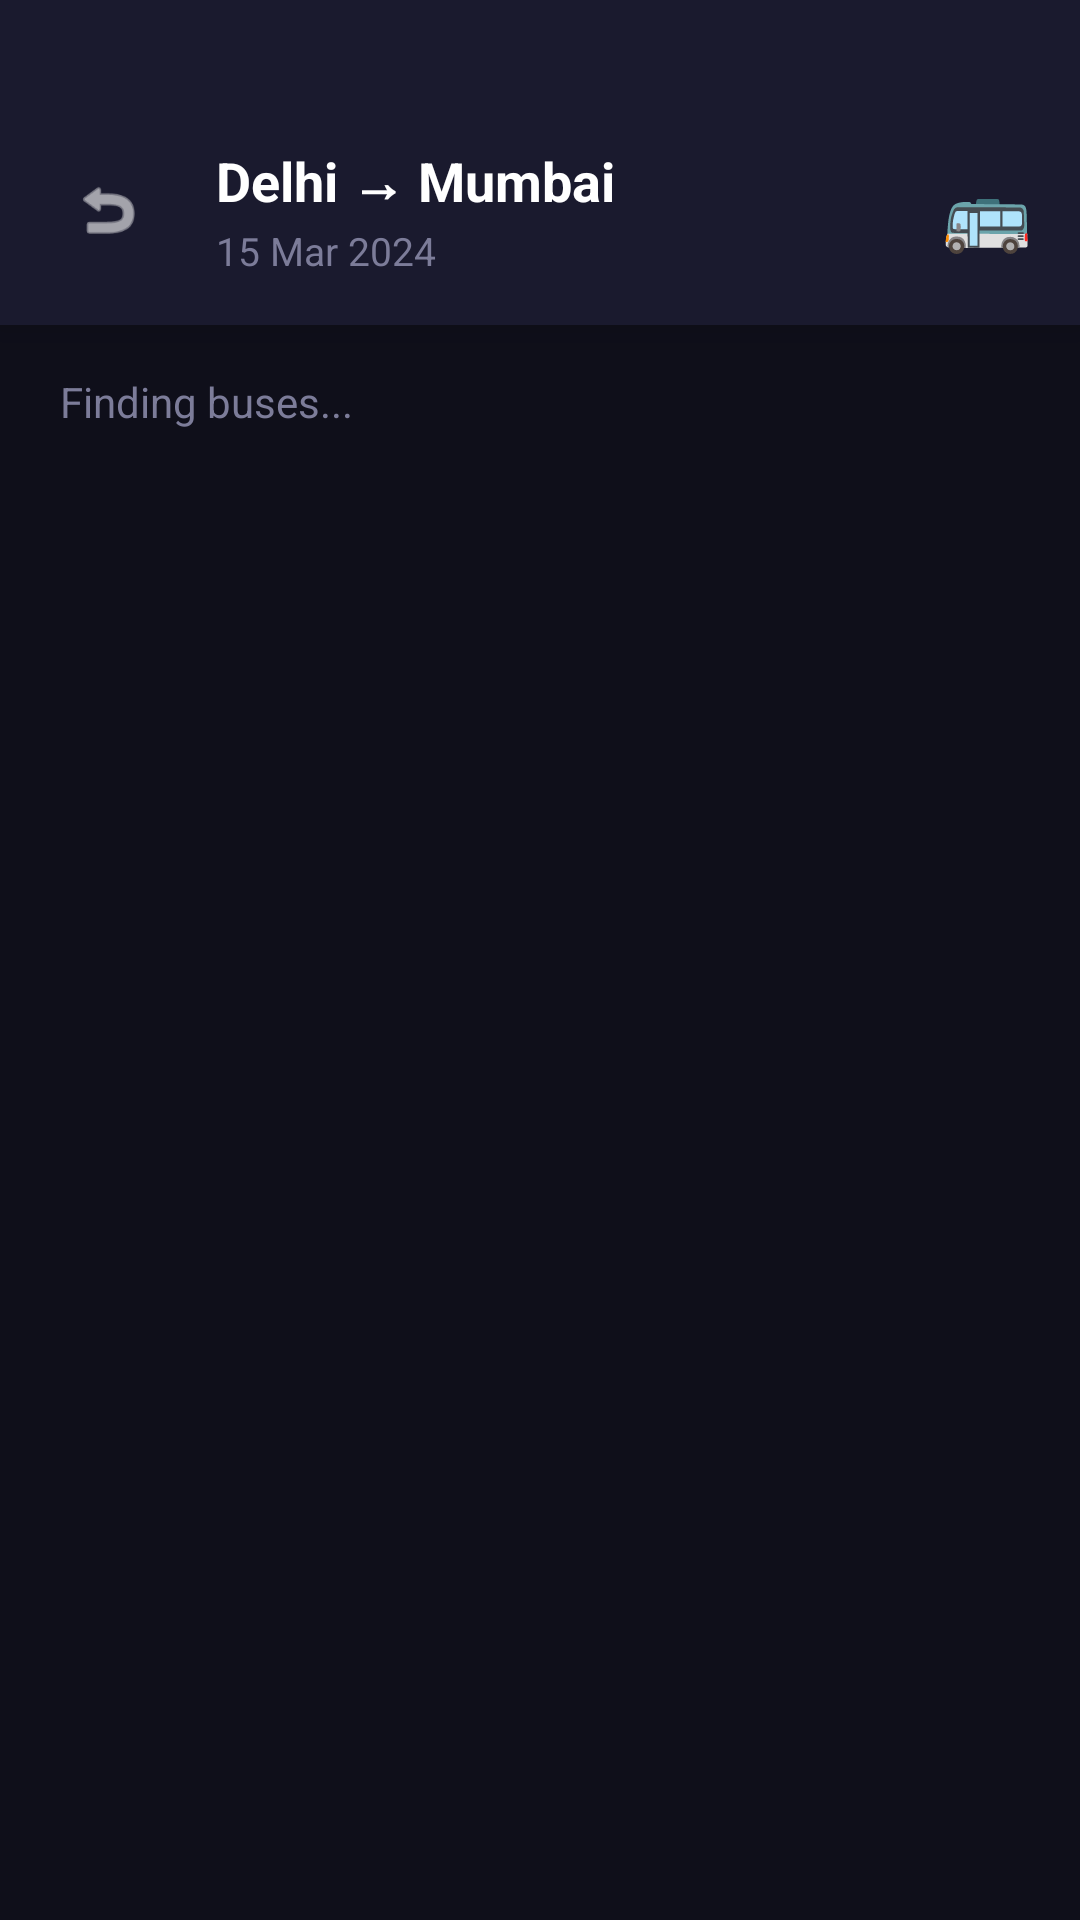

Icon bounding boxes for this 1080*1920 phone screenshot, format box(x1, y1, x2, y2):
revert: box(83, 187, 135, 234)
